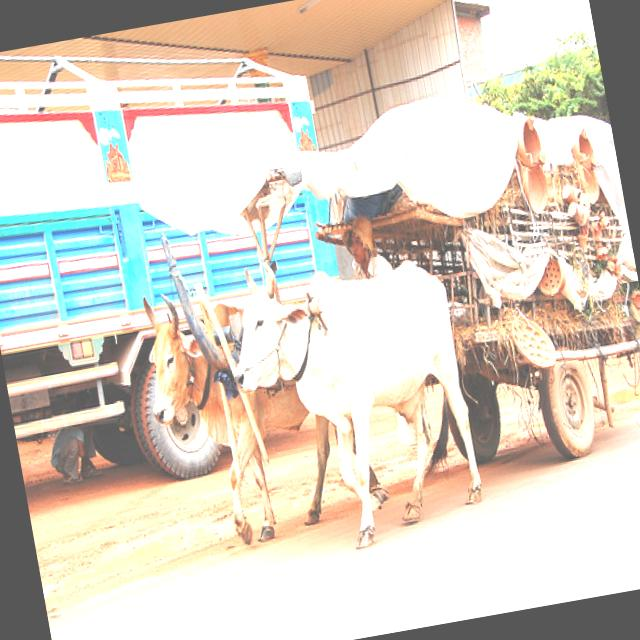Vehicle: (0, 0, 373, 507)
